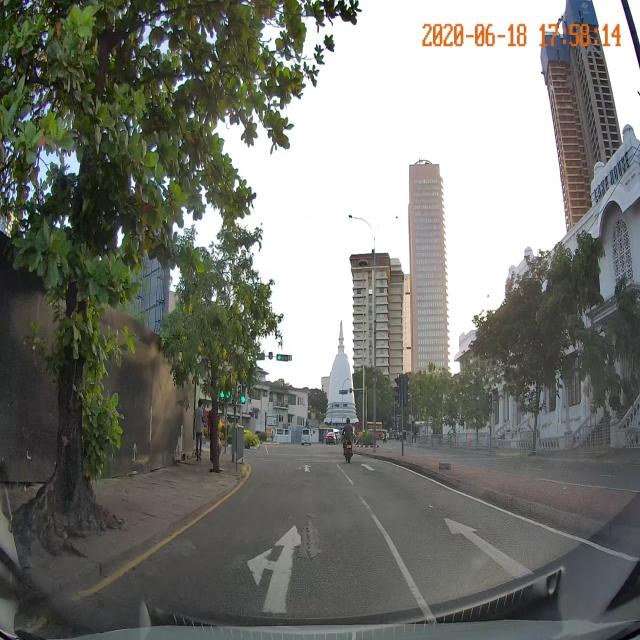forward_lft: (70, 505, 434, 610), (85, 523, 420, 593), (98, 533, 417, 587), (112, 527, 414, 577)
